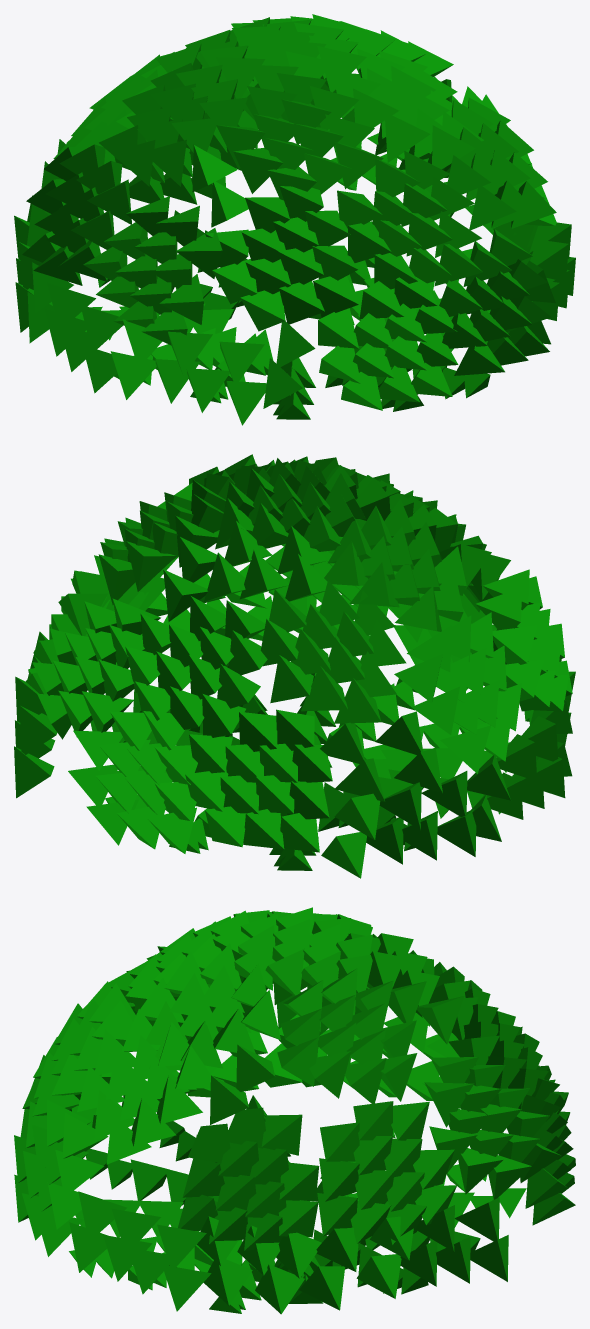
The model's file is Copa.fbx.
3 renders of one model, top to bottom at view 1: azimuth 30°, elevation 25°; view 2: azimuth 150°, elevation 25°; view 3: azimuth 270°, elevation 25°, orthographic. The views are drawn at different scales.
Visible parts, largest first — view 1: Cube.036; view 2: Cube.036; view 3: Cube.036.
Boxes of the visible parts, x1,y1,x2,y2 form: Cube.036: (14,14,575,425); Cube.036: (14,454,575,878); Cube.036: (14,907,575,1314).
Bounding box in the file's own units: 1517 × 953 × 1521.
